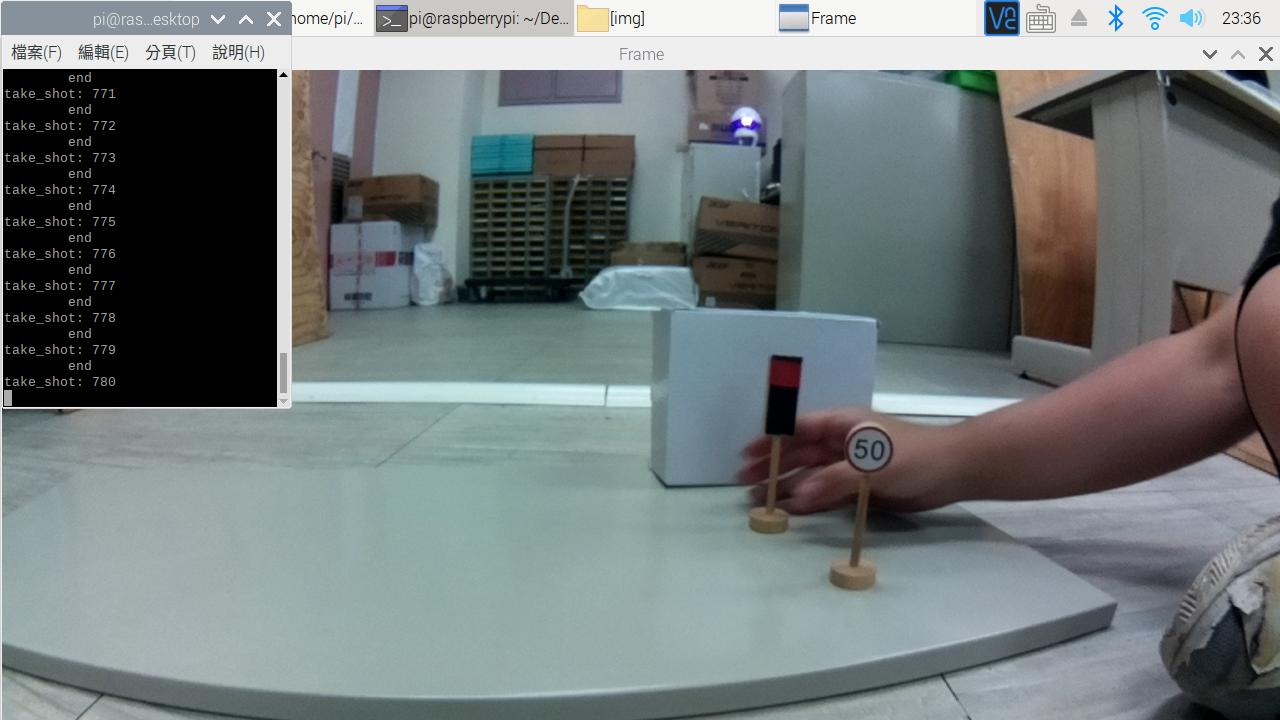Red: (757, 347, 811, 442)
Speed50: (842, 424, 904, 479)
